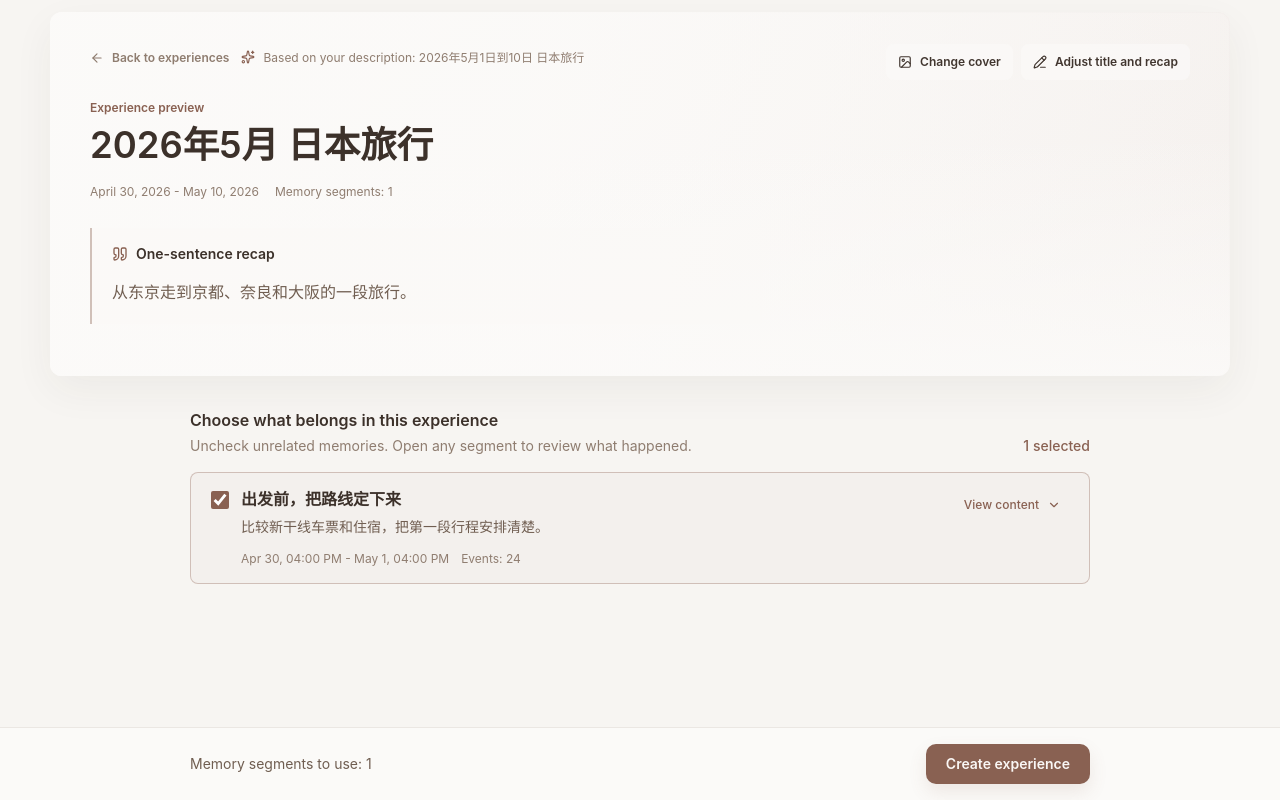
MemoryEpisodesPage › bounds concurrent direct-event detail requests for a large segment
Click the button "View content".
click(1012, 505)  # box [956, 489, 1069, 521]
(page scrolled)
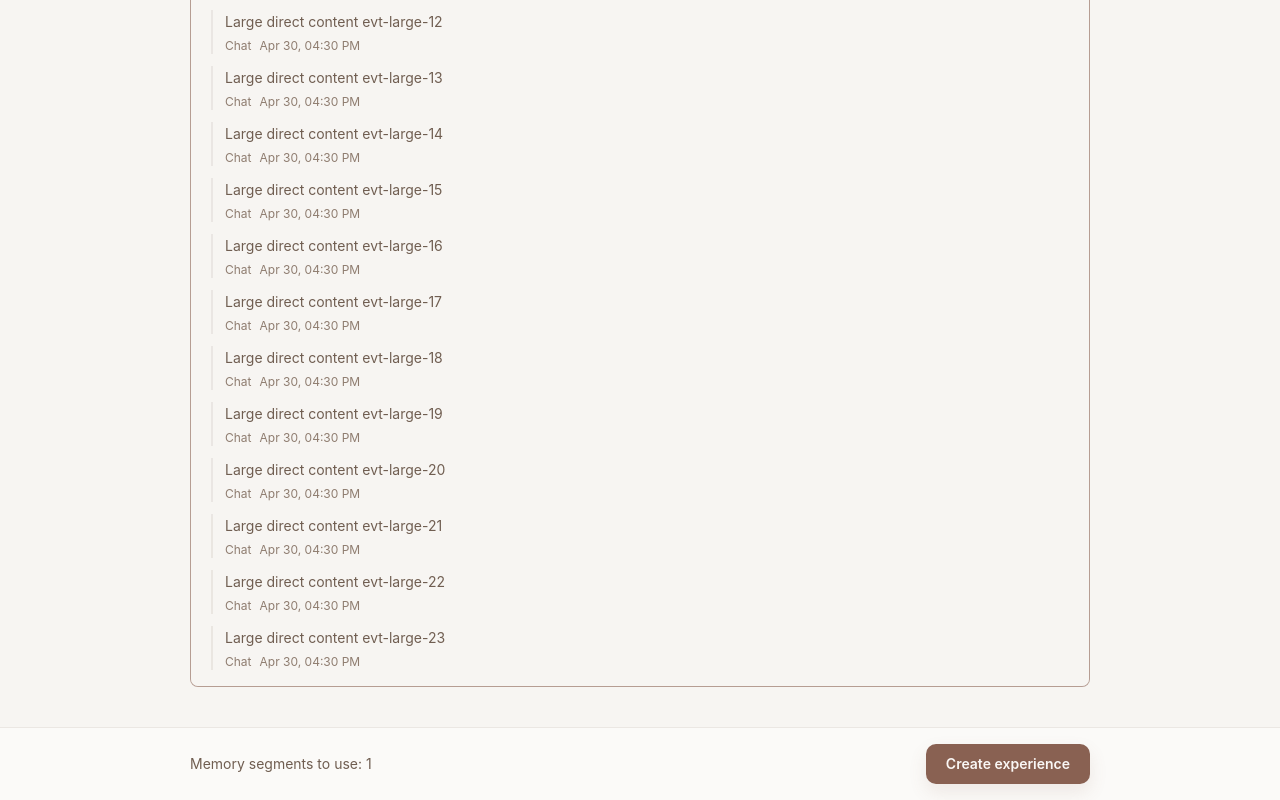
Now the text "Large direct content evt-large-23" is shown, box [225, 629, 445, 646]
